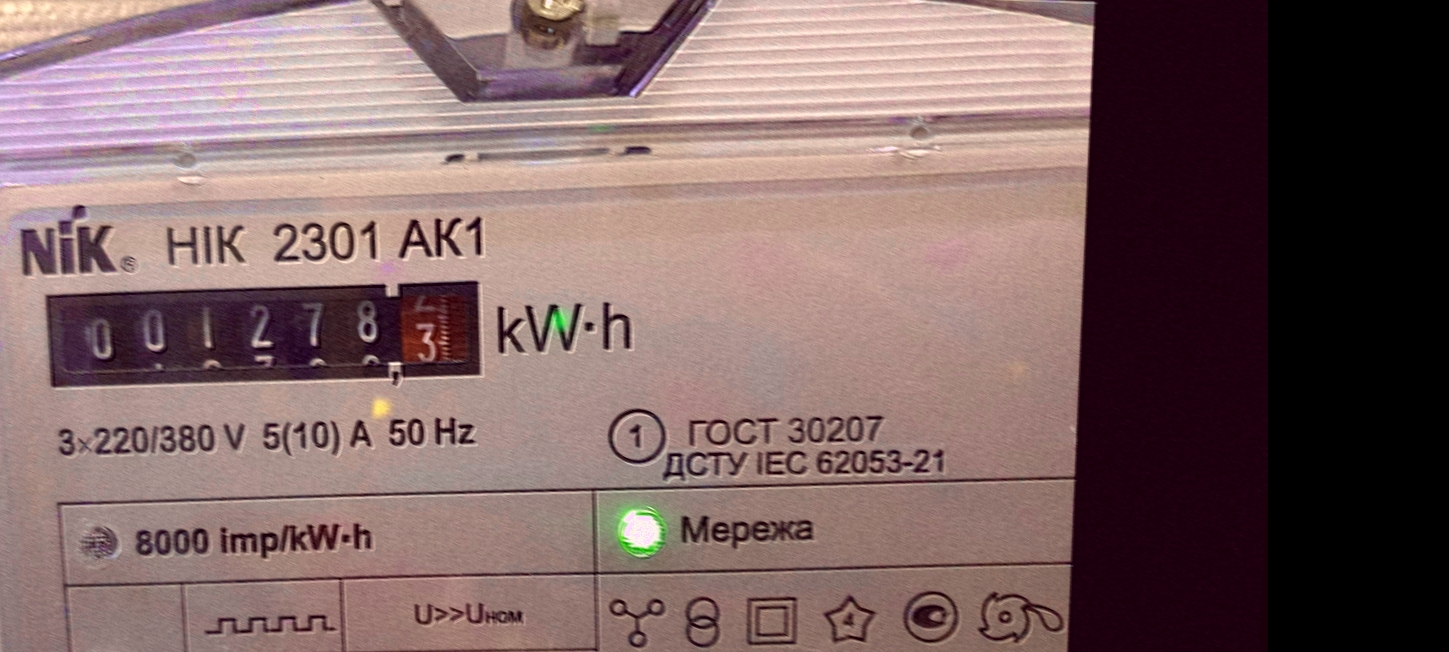0: (87, 313, 116, 361), (139, 306, 167, 354)
1: (197, 301, 217, 349)
2: (246, 302, 274, 350), (411, 292, 436, 313)
3: (411, 319, 440, 364)
7: (299, 299, 323, 347)
8: (354, 298, 380, 343)
screen: (27, 250, 501, 417)
